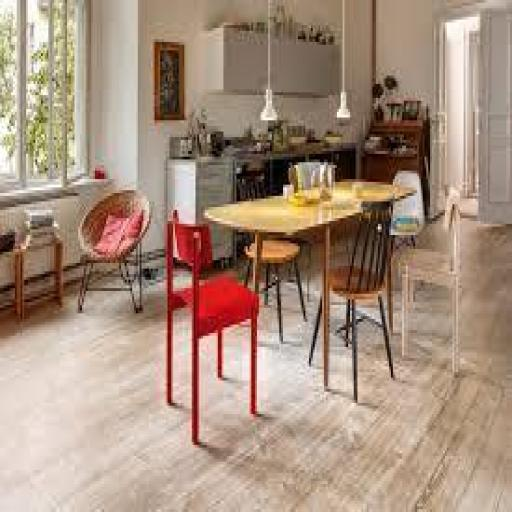chair: (161, 208, 263, 449), (311, 198, 396, 406), (72, 182, 150, 324)
